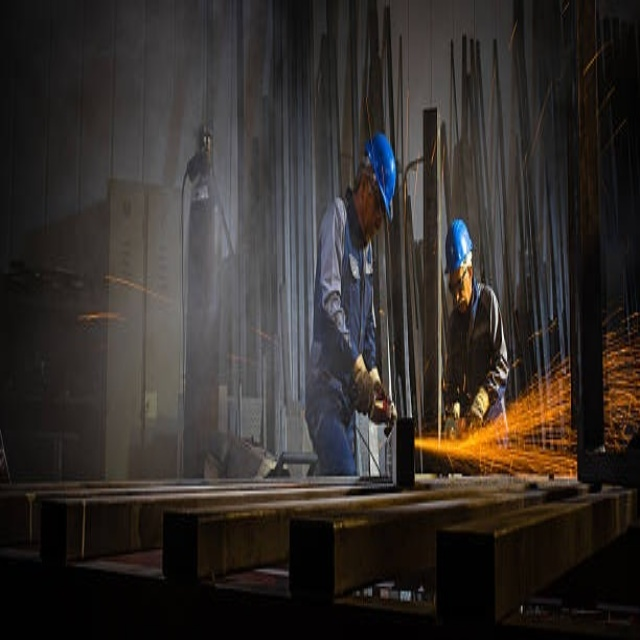Gafas: (368, 175, 386, 228), (448, 261, 470, 296)
Guantes: (351, 356, 382, 415), (467, 387, 489, 428)
